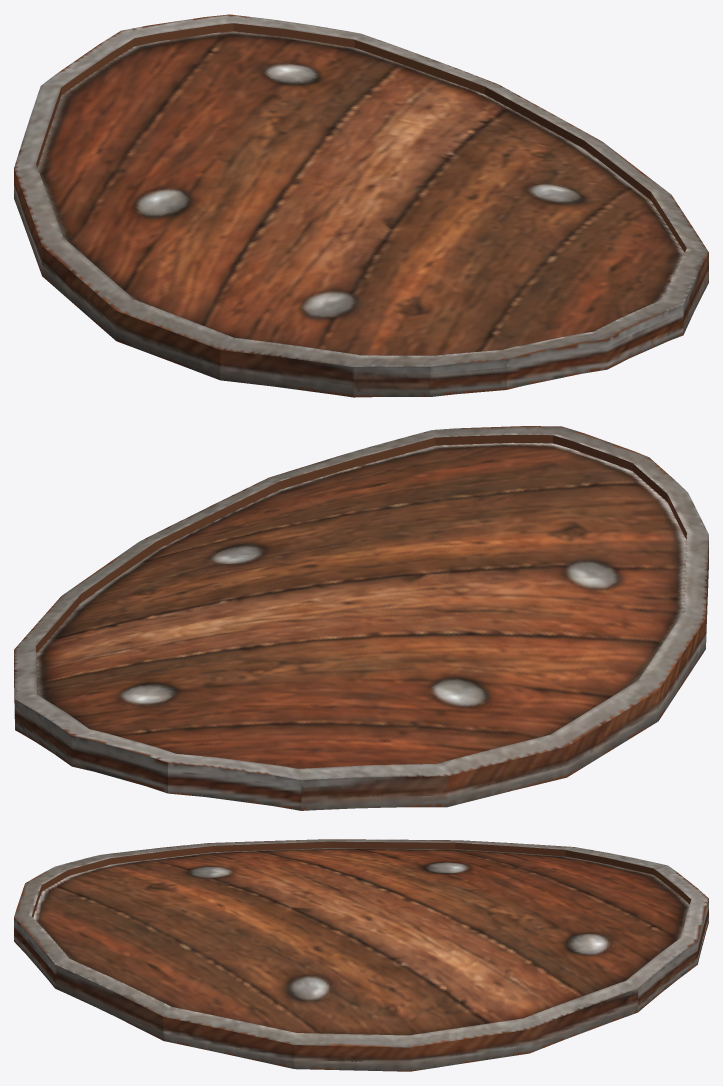
Rendered from item_mm9_10143.glb.
The picture shows the model from 3 angles, top to bottom: view 1: azimuth 30°, elevation 25°; view 2: azimuth 150°, elevation 25°; view 3: azimuth 270°, elevation 25°; orthographic projection. The views are drawn at different scales.
Visible parts, largest first — view 1: d10143; view 2: d10143; view 3: d10143.
Boxes of the visible parts, left/top/right/bottom form: d10143: left=14, top=14, right=708, bottom=397; d10143: left=14, top=426, right=708, bottom=810; d10143: left=14, top=839, right=708, bottom=1071.
Bounding box in the file's own units: 59.4 × 7.96 × 83.7.
Materials: 1 (1 with a texture image).
